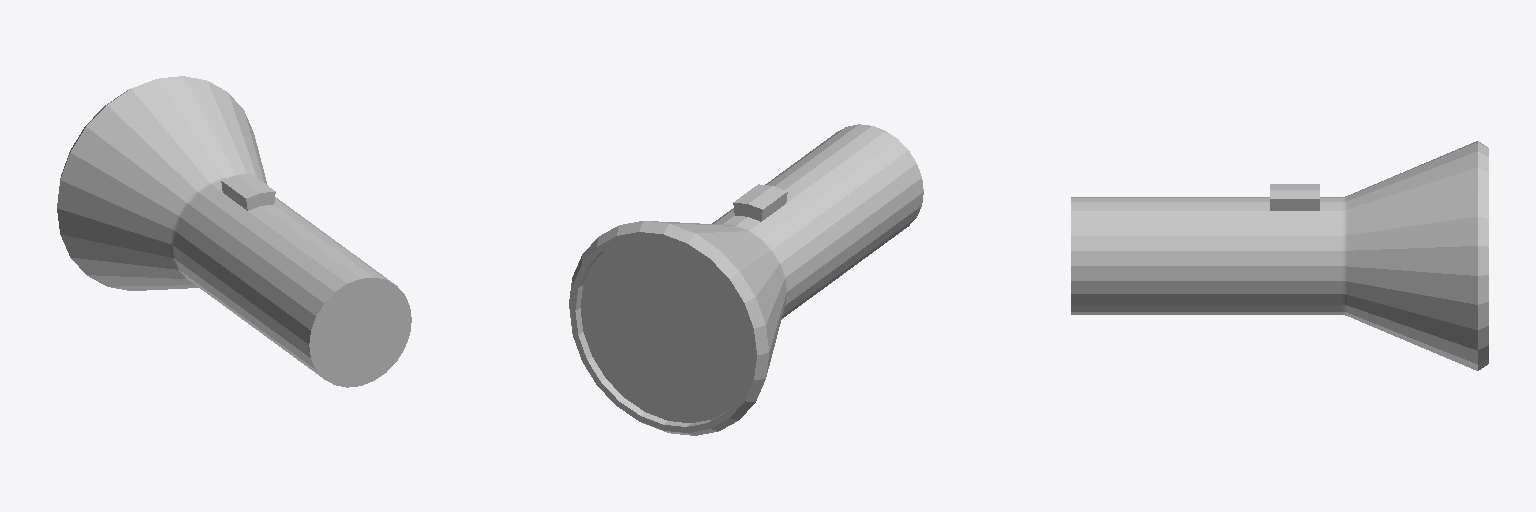
The model's file is flashlight.obj.
3 renders of one model, left to right at view 1: azimuth 30°, elevation 25°; view 2: azimuth 150°, elevation 25°; view 3: azimuth 270°, elevation 25°, orthographic.
Parts seen in each view (by area): view 1: Mesh; view 2: Mesh; view 3: Mesh.
Boxes of the visible parts, x1,y1,x2,y2 form: Mesh: [57, 76, 411, 387]; Mesh: [569, 124, 923, 435]; Mesh: [1071, 141, 1488, 370].
Size of the model in its own units: 1.16 by 1.16 by 2.1.